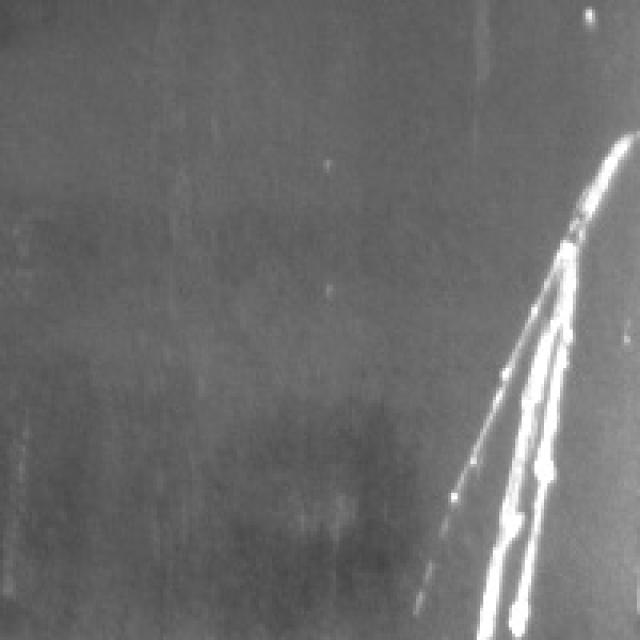scratches: (445, 124, 630, 634)
